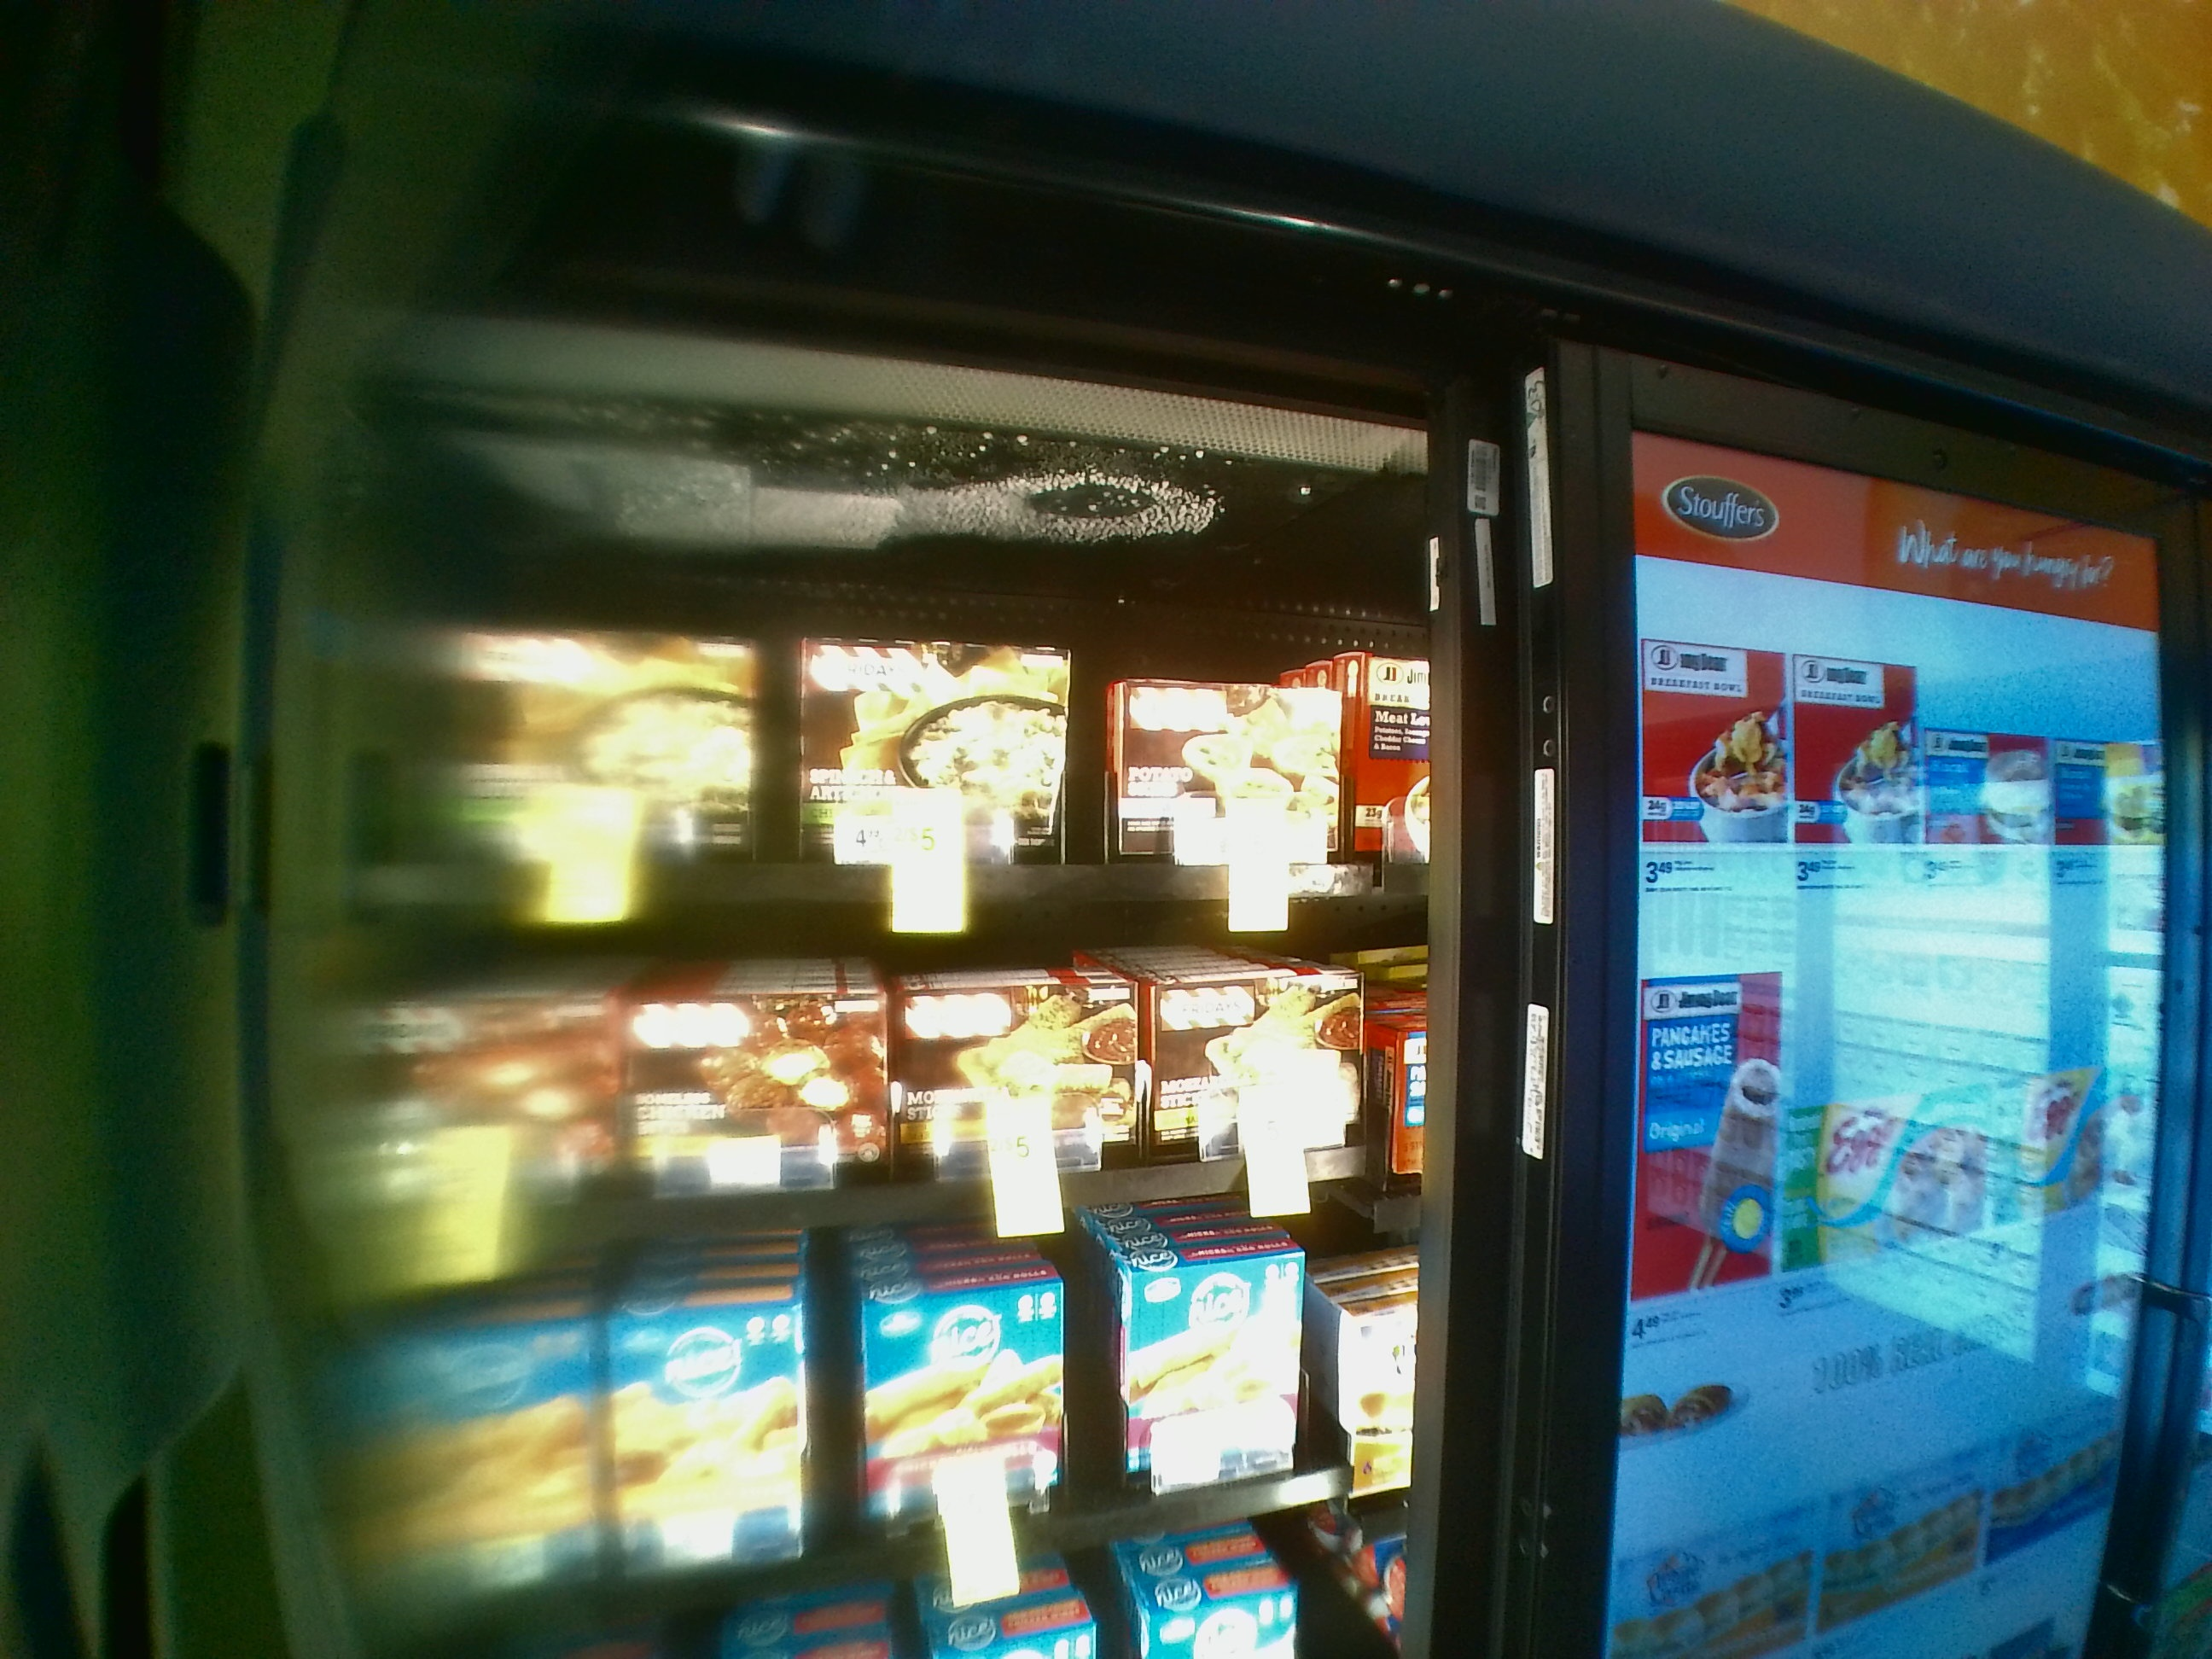shelf: (314, 477, 1418, 908), (308, 922, 1420, 1213)
